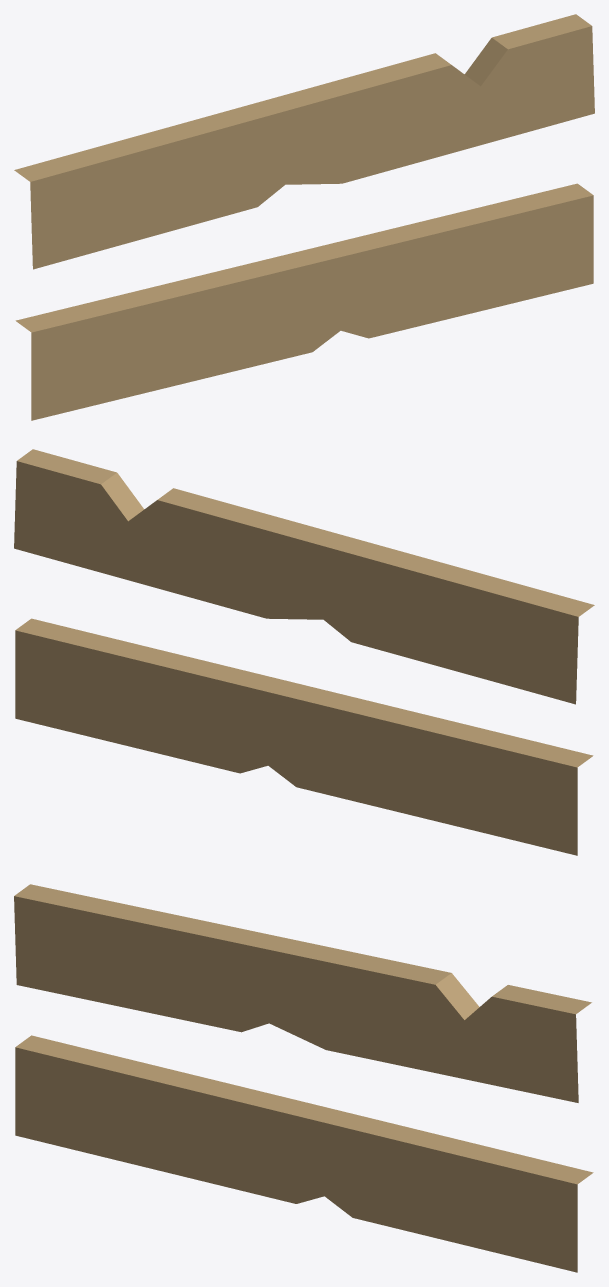
The model's file is Hilly_Prop_Fence_Boards_1.glb.
The picture shows the model from 3 angles, top to bottom: view 1: azimuth 30°, elevation 25°; view 2: azimuth 150°, elevation 25°; view 3: azimuth 330°, elevation 25°; orthographic projection.
Visible parts, largest first — view 1: Hilly_Prop_Fence_Boards_1; view 2: Hilly_Prop_Fence_Boards_1; view 3: Hilly_Prop_Fence_Boards_1.
Part boxes in pixels (x1,y1,x2,y2): Hilly_Prop_Fence_Boards_1: (14,14,594,420); Hilly_Prop_Fence_Boards_1: (14,449,594,855); Hilly_Prop_Fence_Boards_1: (14,884,593,1272).
Size of the model in its own units: 1 by 0.4384 by 0.05.
